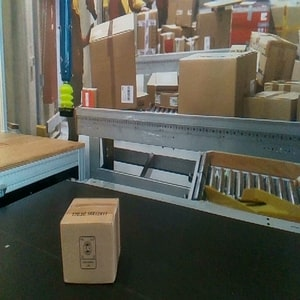box: (59, 197, 122, 285)
